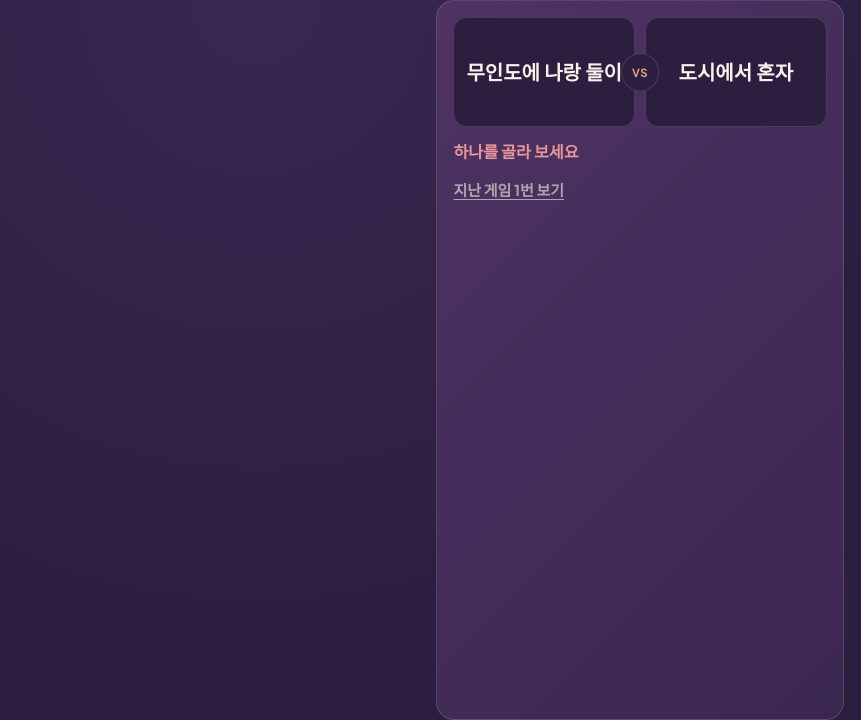
Test: BalanceGame › folds out earlier games
The width and height of the screenshot is (861, 720).
Click the button "지난 게임 1번 보기". click: (509, 190)
box: [453,175,564,204]
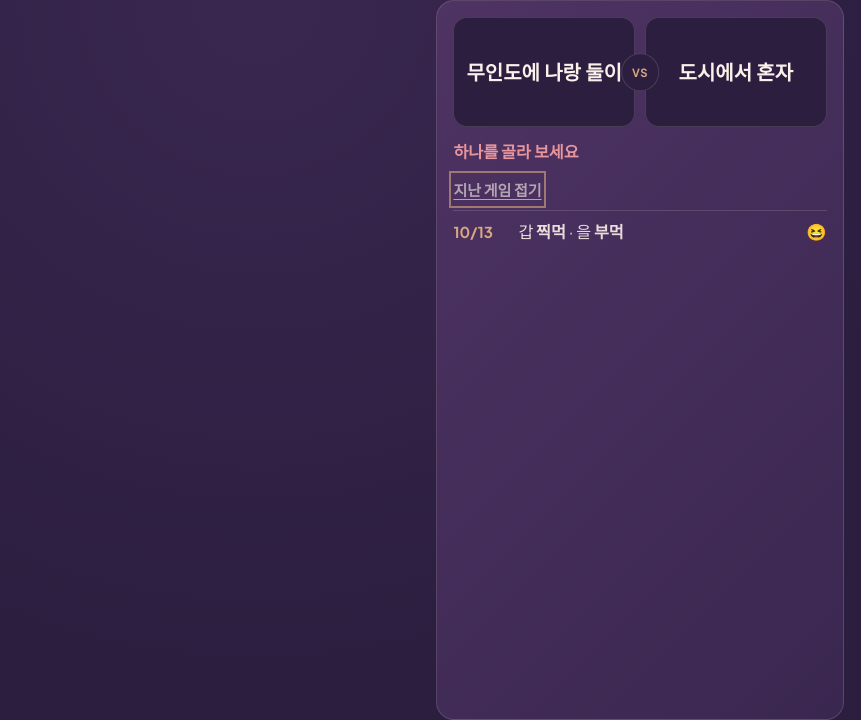
expect the element with test id "past-game" reads "10/13 갑 찍먹 · 을 부먹 😆": met, box [453,210,827,253]
